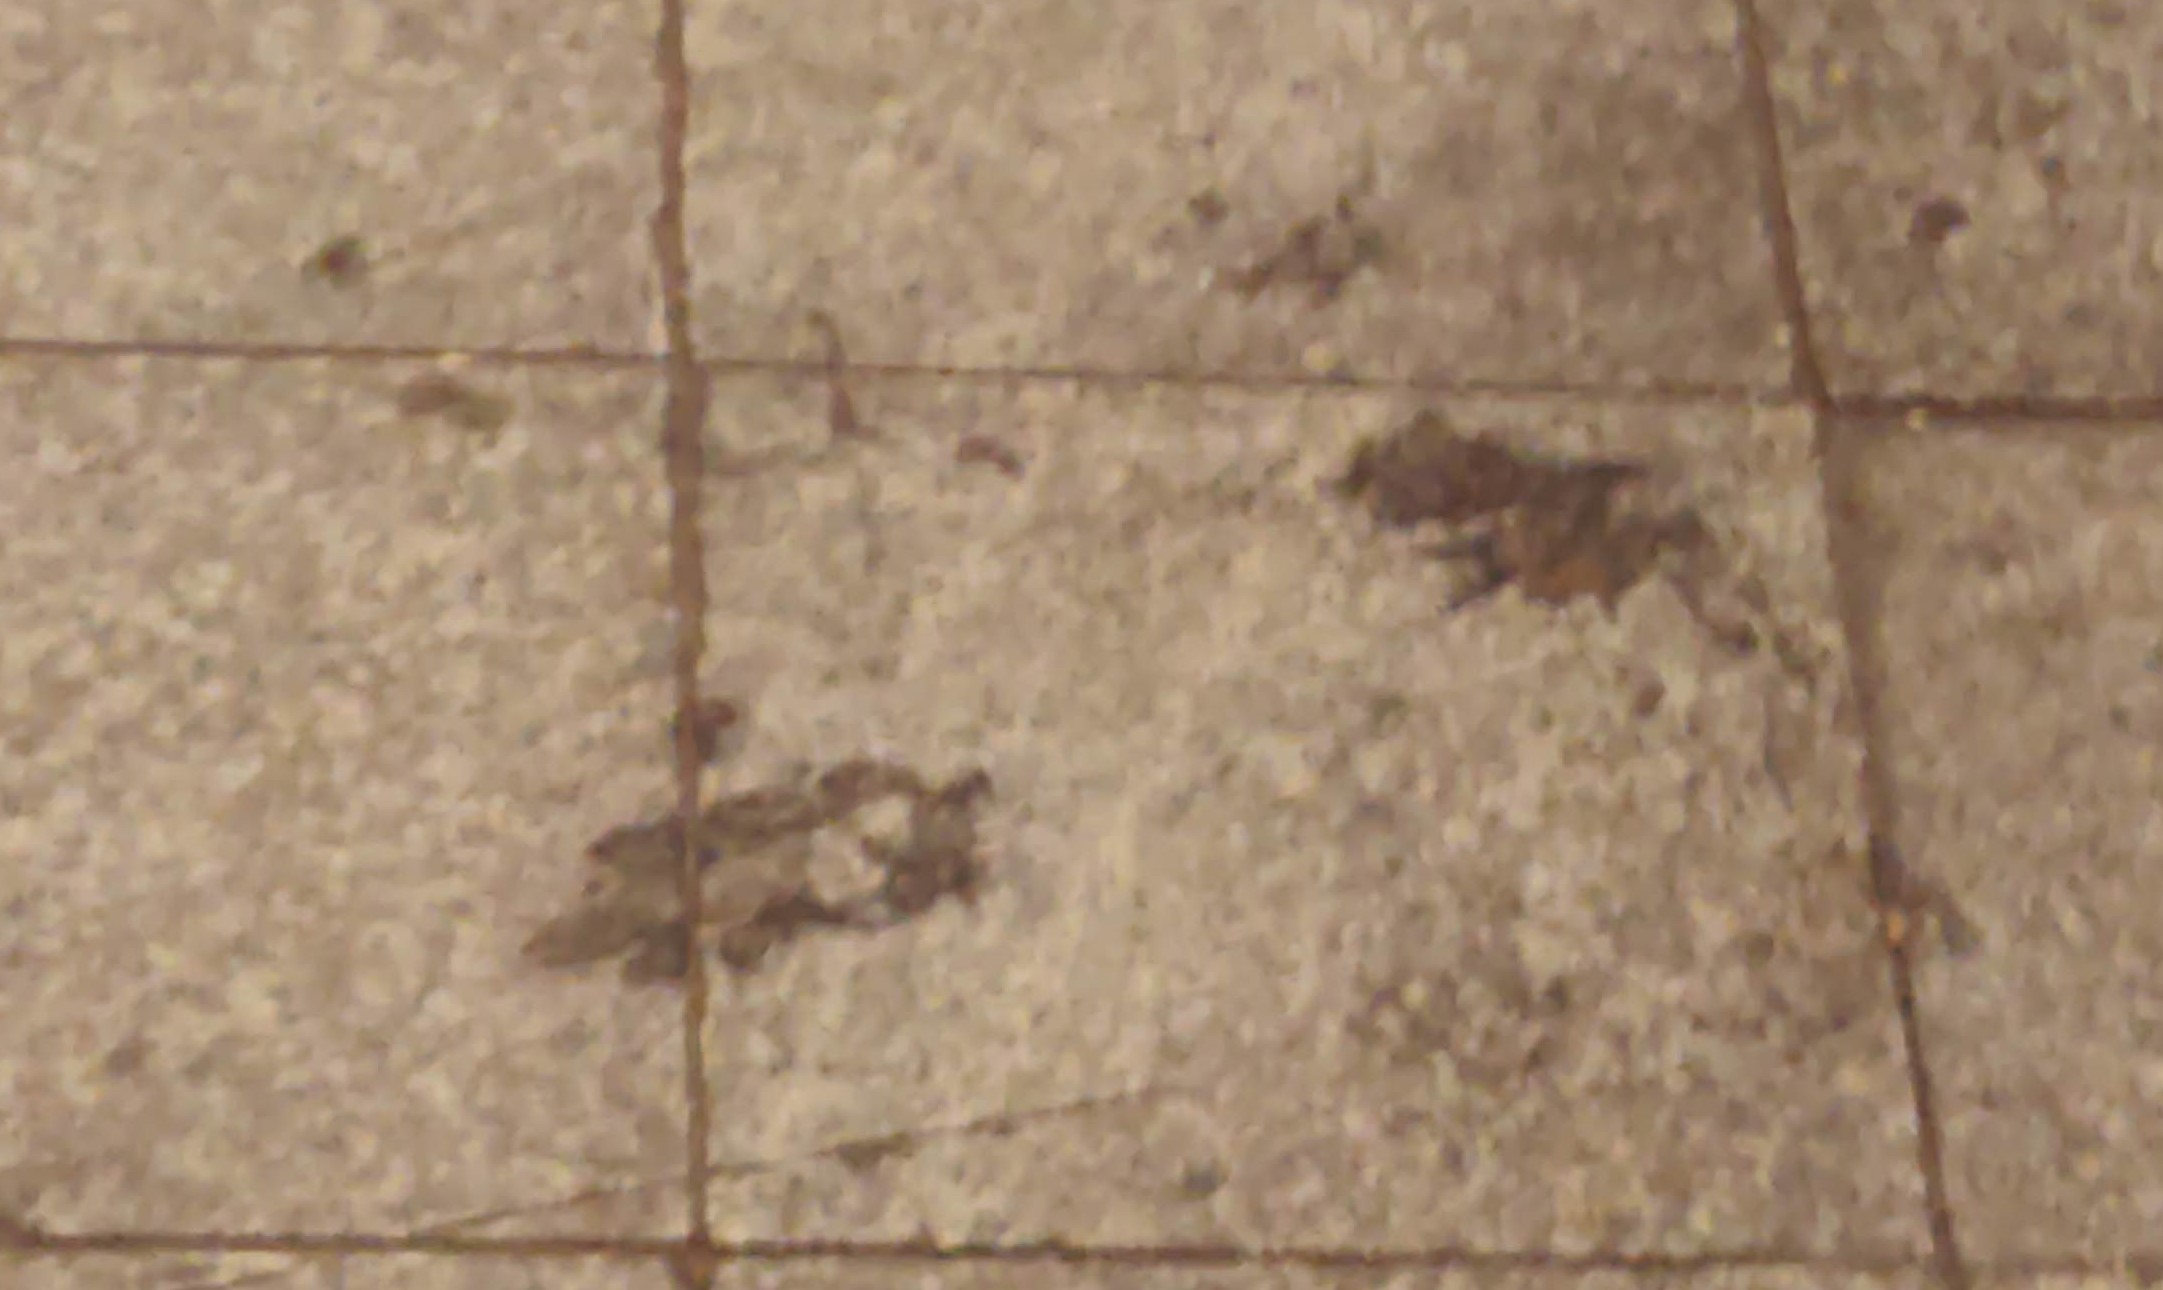grey spot: (523, 762, 996, 987), (1322, 408, 1706, 619), (1213, 197, 1392, 312), (393, 372, 514, 451), (1910, 189, 1970, 252), (682, 702, 734, 768), (318, 238, 373, 290), (1194, 190, 1230, 226)
